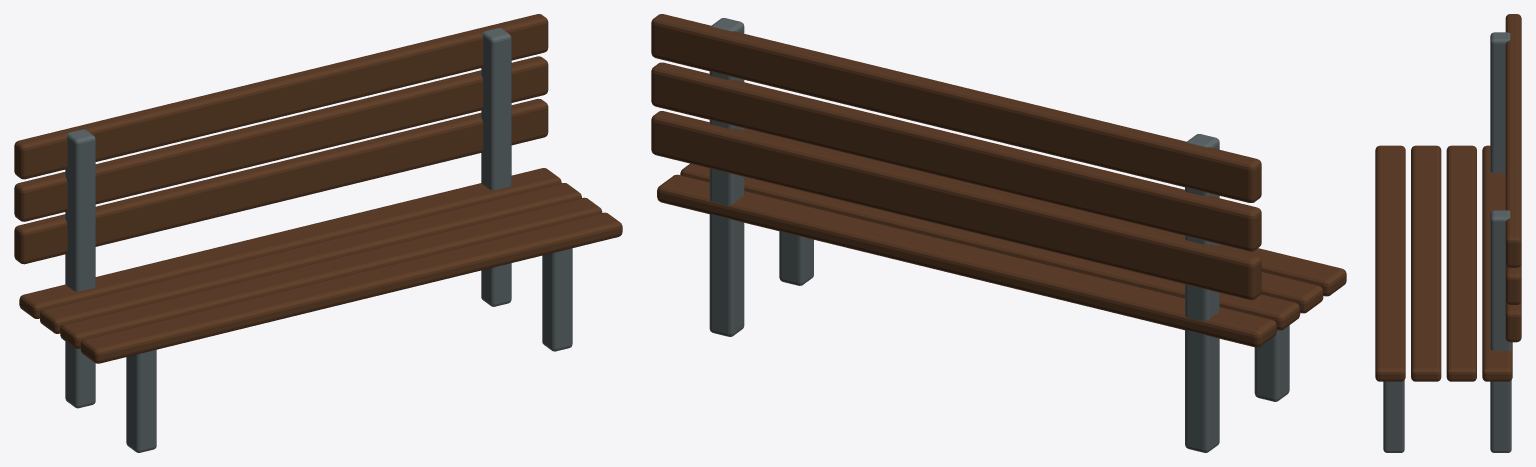
Rendered from CP05-bench.glb.
3 views of the same model, side by side, from view 1: azimuth 30°, elevation 25°; view 2: azimuth 150°, elevation 25°; view 3: azimuth 270°, elevation 25° (orthographic). The views are drawn at different scales.
Parts seen in each view (by area): view 1: CP05-bench; view 2: CP05-bench; view 3: CP05-bench.
Part boxes in pixels (x1,y1,x2,y2): CP05-bench: (14,14,622,452); CP05-bench: (651,14,1346,452); CP05-bench: (1375,14,1521,452).
Size of the model in its own units: 3 by 1.46 by 0.82.
